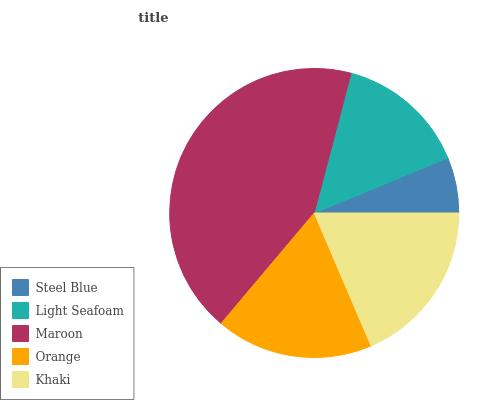legend: (0, 267, 136, 400)
sector: (152, 62, 353, 322), (221, 212, 369, 360), (315, 211, 456, 347), (317, 73, 449, 212), (315, 159, 460, 211)
